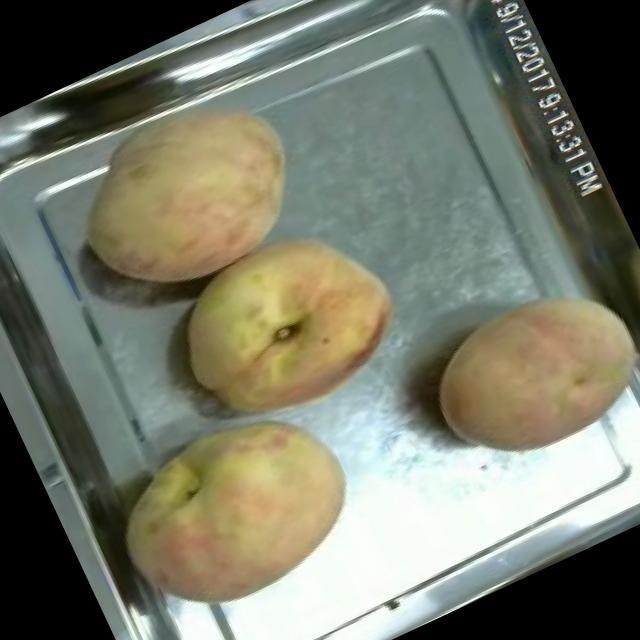Fruit: (84, 374, 385, 640), (42, 57, 334, 325), (148, 197, 429, 458), (402, 251, 640, 496)
